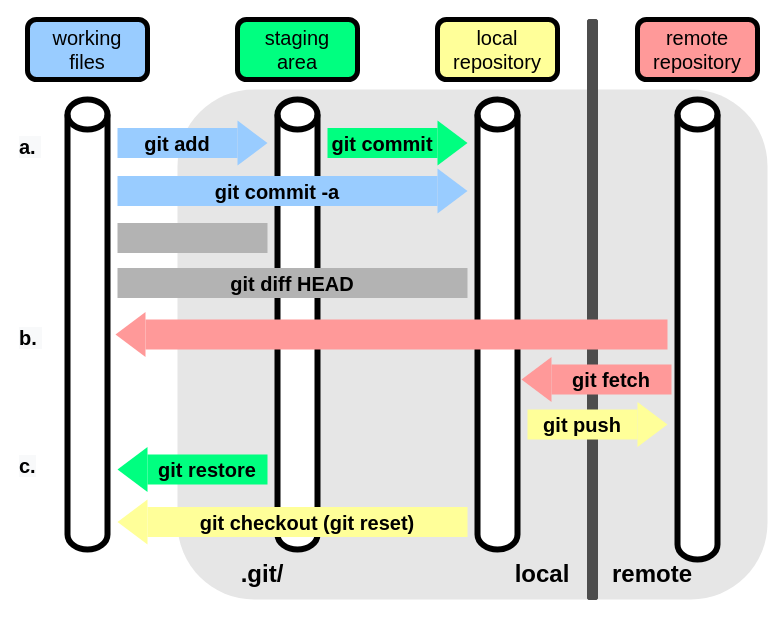
Some shapes in this 784 by 617 pixel diagram are drawn without their labels. The shapes that lost their labels are listed below. From the top down, each one's centre as x and y in pixels, then its label:
the point at 192,237: git diff
the point at 406,334: git pull (git clone)
